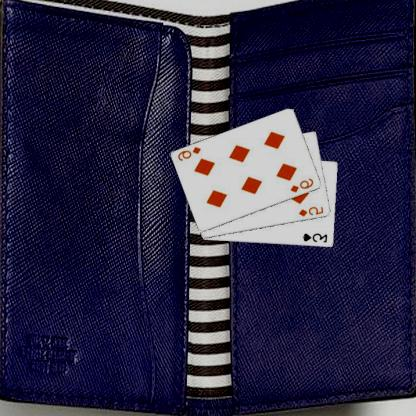3S: (302, 231, 330, 244)
5D: (298, 204, 327, 218)
6D: (290, 176, 317, 194), (177, 144, 204, 162)
